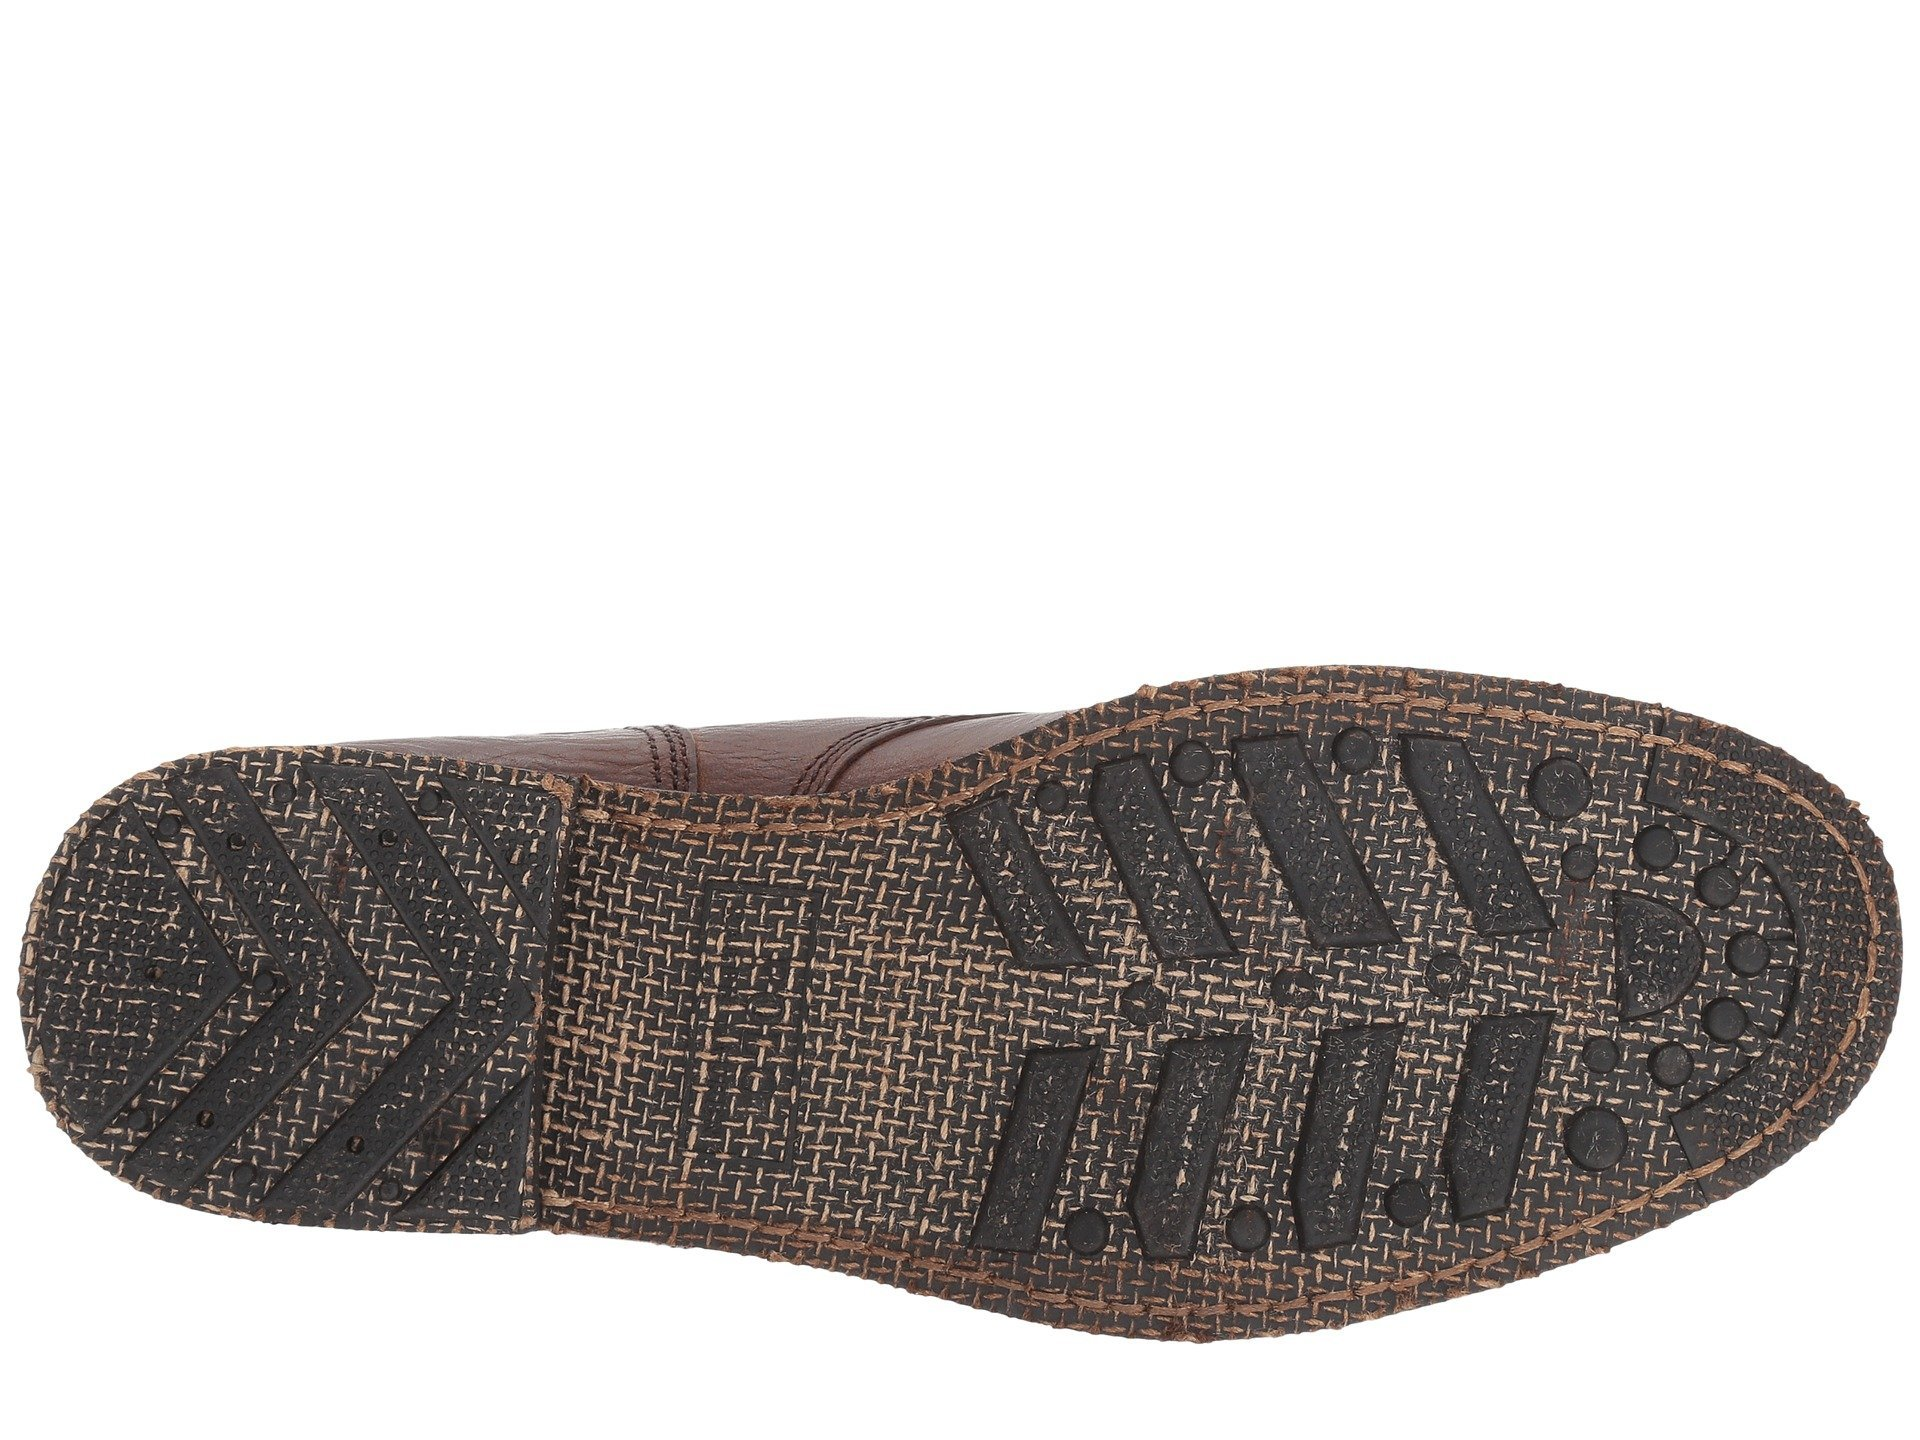chevron: (122, 753, 503, 1190)
circle: (1023, 743, 1566, 1193), (122, 753, 503, 1190), (1624, 712, 1829, 1078)
line: (1023, 743, 1566, 1193), (1624, 712, 1829, 1078), (652, 835, 844, 1171)
other: (1624, 712, 1829, 1078)
polygon: (1023, 743, 1566, 1193)
quad: (1023, 743, 1566, 1193), (652, 835, 844, 1171)
text: (652, 835, 844, 1171)
